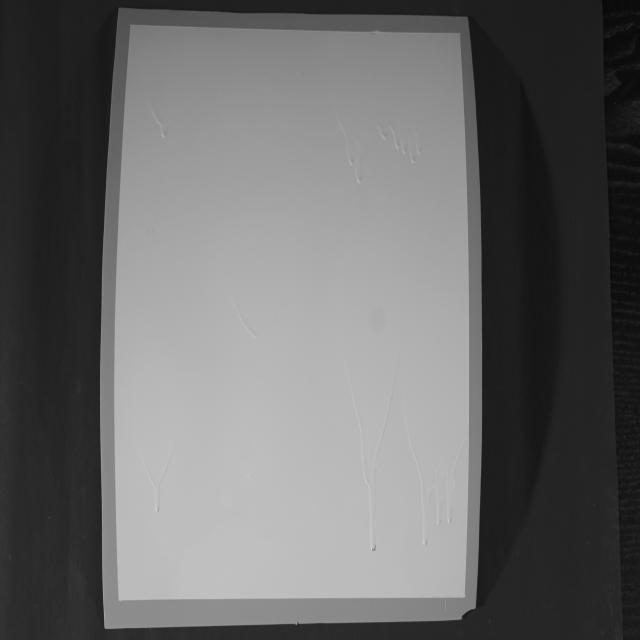paint drips: (344, 354, 467, 555), (330, 95, 426, 193), (136, 438, 180, 522), (145, 89, 174, 150), (232, 296, 264, 349), (240, 460, 262, 482)
